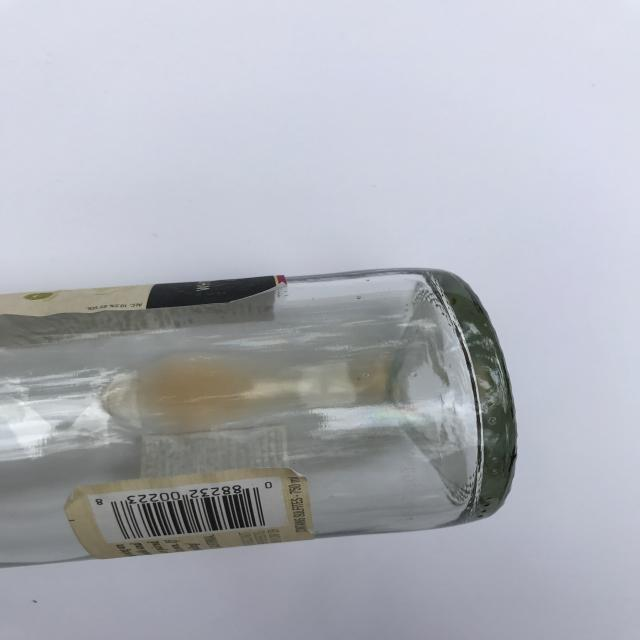glass: (0, 267, 519, 567)
